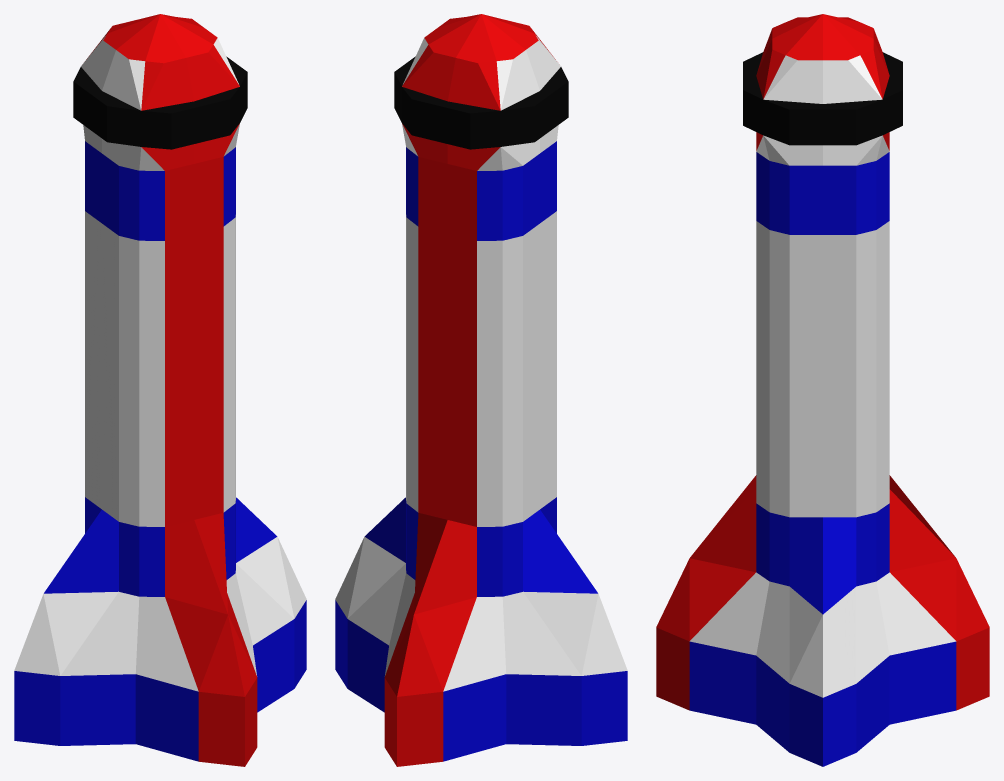
Rendered from Rocket1.fbx.
3 renders of one model, left to right at view 1: azimuth 30°, elevation 25°; view 2: azimuth 150°, elevation 25°; view 3: azimuth 270°, elevation 25°, orthographic.
Visible parts, largest first — view 1: Cube; view 2: Cube; view 3: Cube.
Boxes of the visible parts, box(x1,y1,x2,y2) form: Cube: box(14, 14, 306, 766); Cube: box(335, 14, 627, 766); Cube: box(656, 14, 989, 766).
Bounding box in the file's own units: 500 × 1128 × 500.
